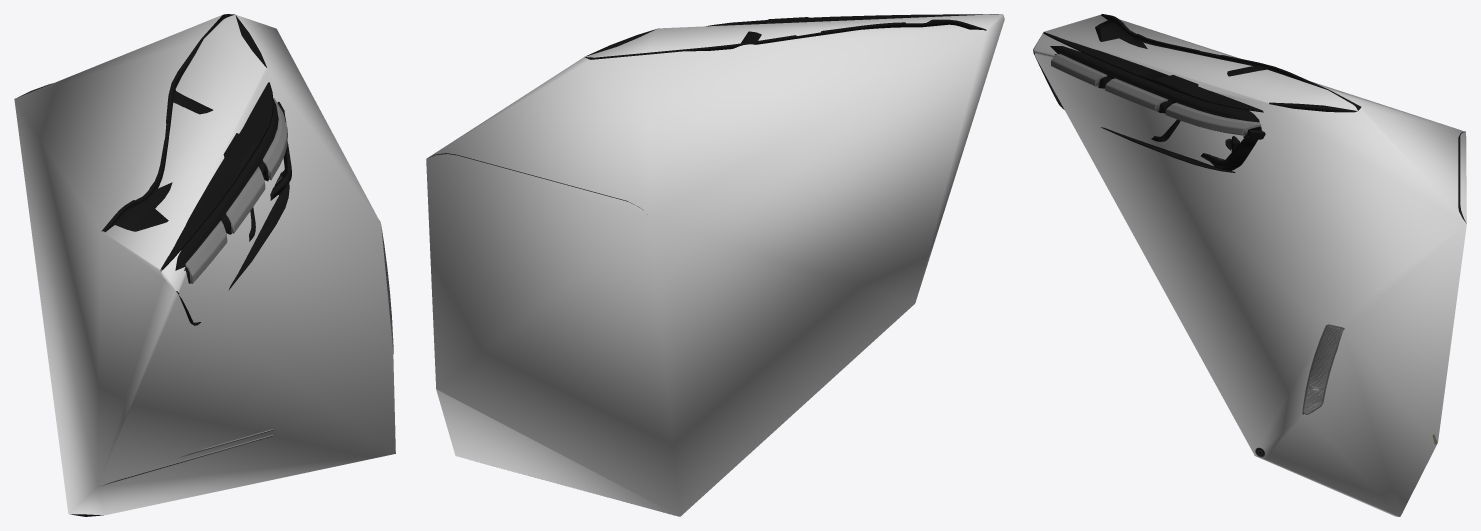
The picture shows the model from 3 angles, left to right: view 1: azimuth 30°, elevation 25°; view 2: azimuth 150°, elevation 25°; view 3: azimuth 270°, elevation 25°; orthographic projection. The views are drawn at different scales.
Visible parts, largest first — view 1: light_stampede_head_r_01_col, light_stampede_head_r_01; view 2: light_stampede_head_r_01_col, light_stampede_head_r_01; view 3: light_stampede_head_r_01_col, light_stampede_head_r_01.
Part boxes in pixels (x1=…): light_stampede_head_r_01_col: x1=14, y1=14, x2=395, y2=515; light_stampede_head_r_01: x1=17, y1=14, x2=393, y2=516; light_stampede_head_r_01_col: x1=426, y1=14, x2=1004, y2=516; light_stampede_head_r_01: x1=429, y1=14, x2=998, y2=214; light_stampede_head_r_01_col: x1=1033, y1=14, x2=1466, y2=516; light_stampede_head_r_01: x1=1033, y1=14, x2=1466, y2=456.
Bounding box in the file's own units: 0.5131 × 0.5627 × 0.5944.
4 materials, 4 textured.
